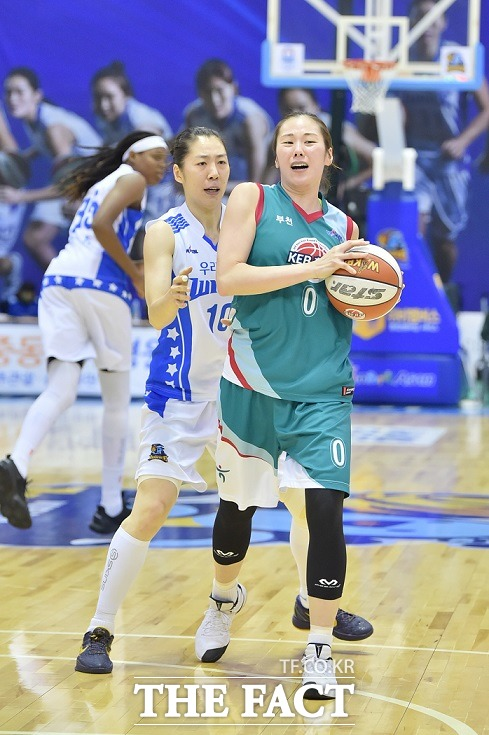ball: (318, 236, 406, 328)
defense: (72, 120, 248, 680)
run: (11, 110, 171, 523)
stand: (213, 104, 407, 699)
